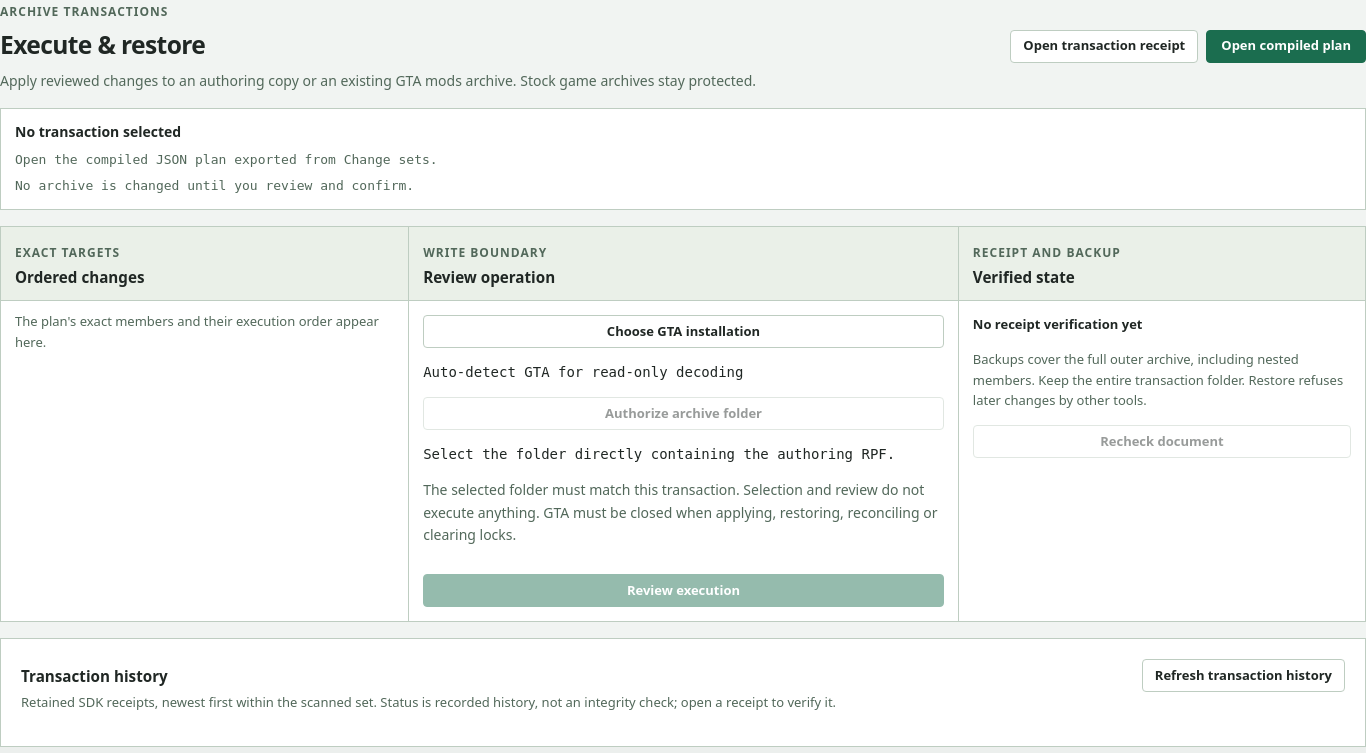
Test case: rejects a live review that omits the game-write requirement
What coordinates should you click on to do the following:
click the button "Open compiled plan"
I would click on:
 (1286, 46)
Its box is [1206,30,1365,63].
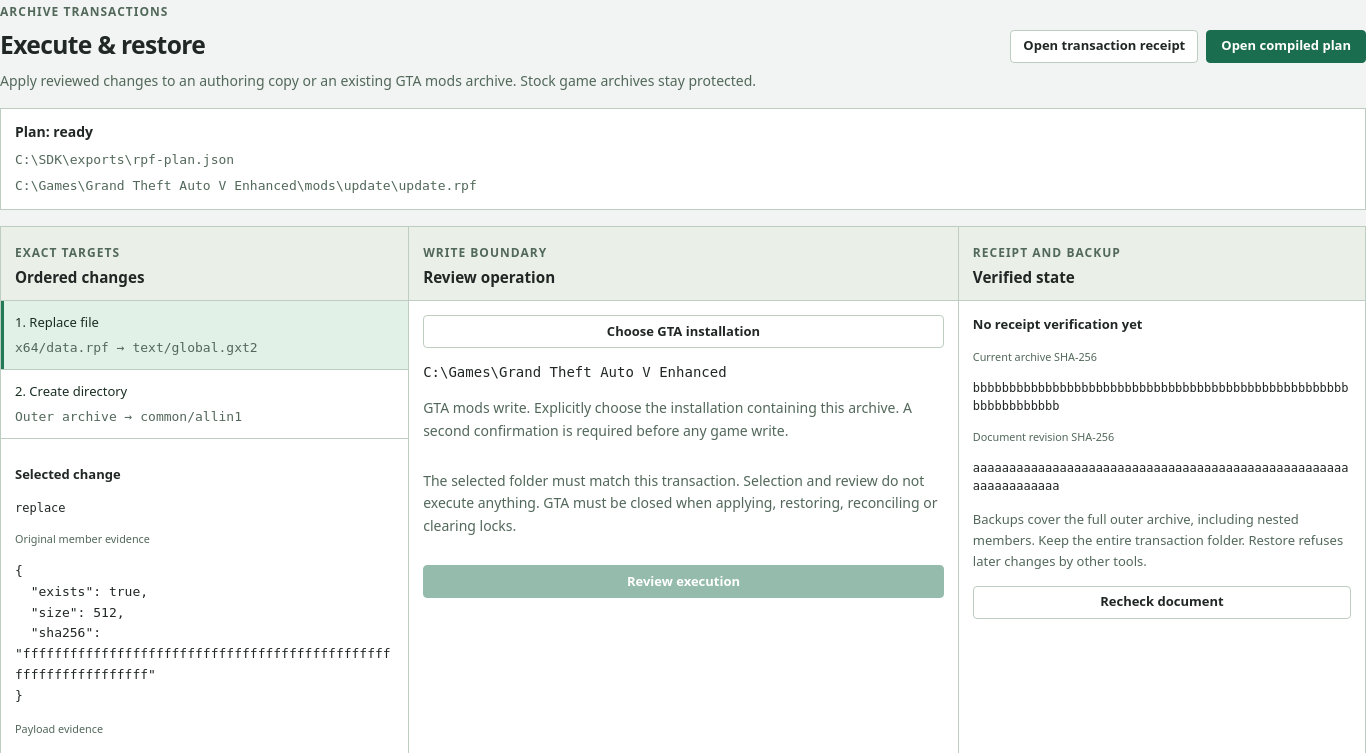
Now the text "Plan: ready" is shown, box [15,122,93,141]
What coordinates should you click on to do the following:
click the button "Choose GTA installation"
I would click on:
 (684, 332)
Its box is [423,315,944,348].
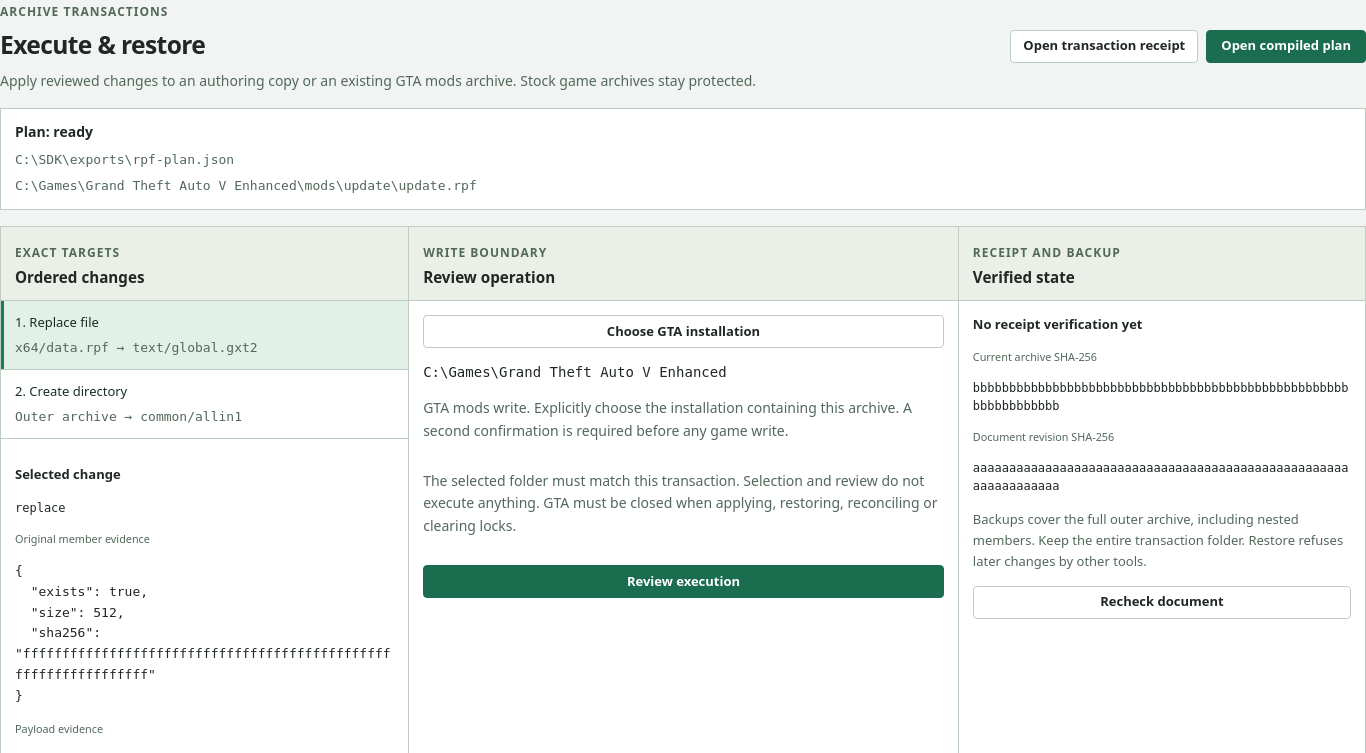
What coordinates should you click on to do the following:
click the button "Review execution"
I would click on:
 (684, 582)
Its box is [423,565,944,598].
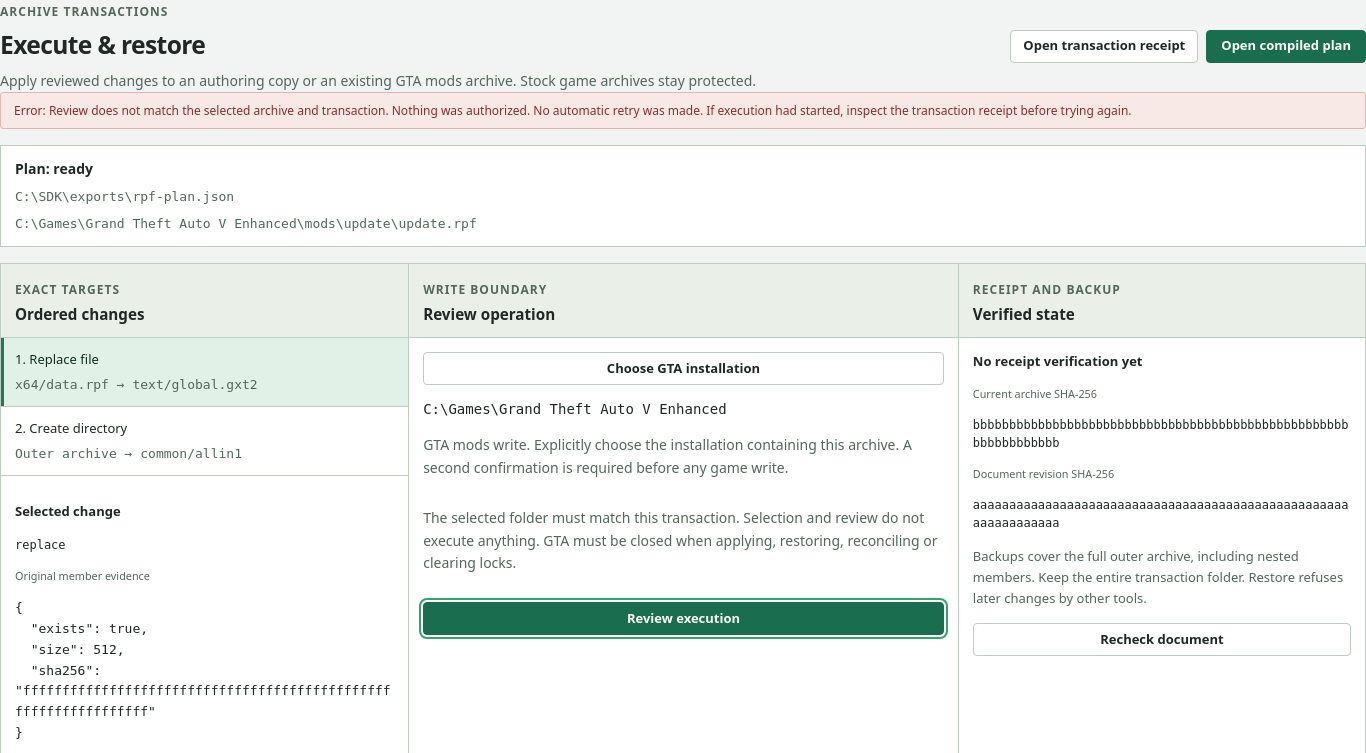
Now the message shows "Nothing was authorized", box [14,102,530,119]
